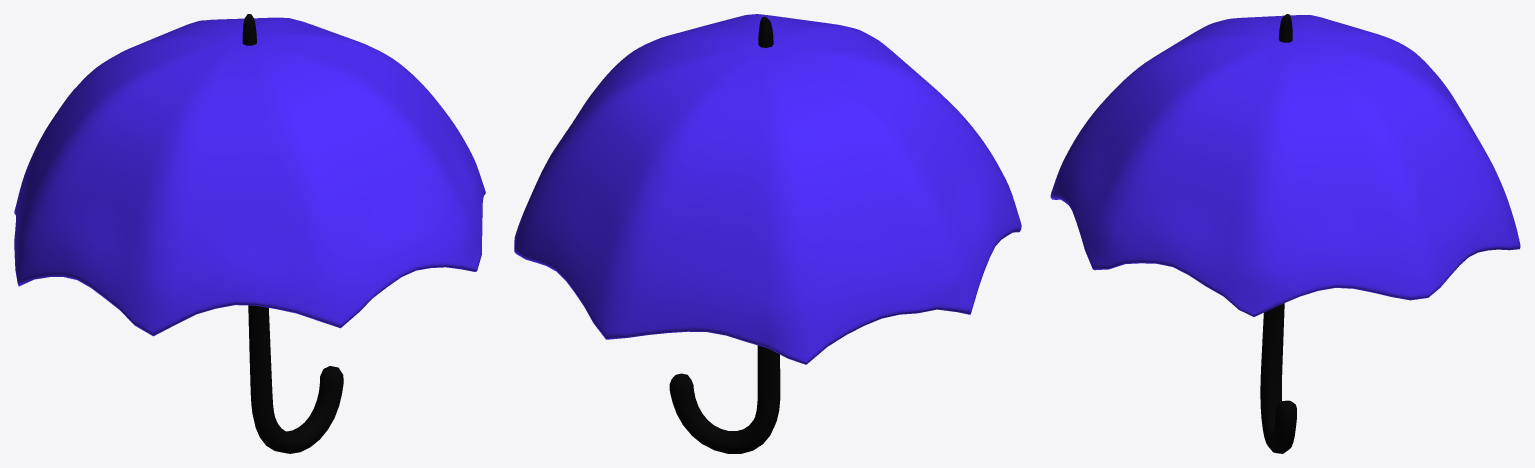
The model's file is umbrella FBX.glb.
3 renders of one model, left to right at view 1: azimuth 30°, elevation 25°; view 2: azimuth 150°, elevation 25°; view 3: azimuth 270°, elevation 25°, orthographic. The views are drawn at different scales.
Visible parts, largest first — view 1: Group1666, Group001; view 2: Group1666, Group001; view 3: Group1666, Group001.
Boxes of the visible parts, bbox=[...] form: Group1666: bbox=[14, 17, 485, 336]; Group001: bbox=[242, 14, 343, 453]; Group1666: bbox=[514, 14, 1021, 364]; Group001: bbox=[669, 16, 780, 453]; Group1666: bbox=[1050, 15, 1520, 316]; Group001: bbox=[1260, 14, 1296, 453].
Bounding box in the file's own units: 0.5409 × 0.5319 × 0.545.
